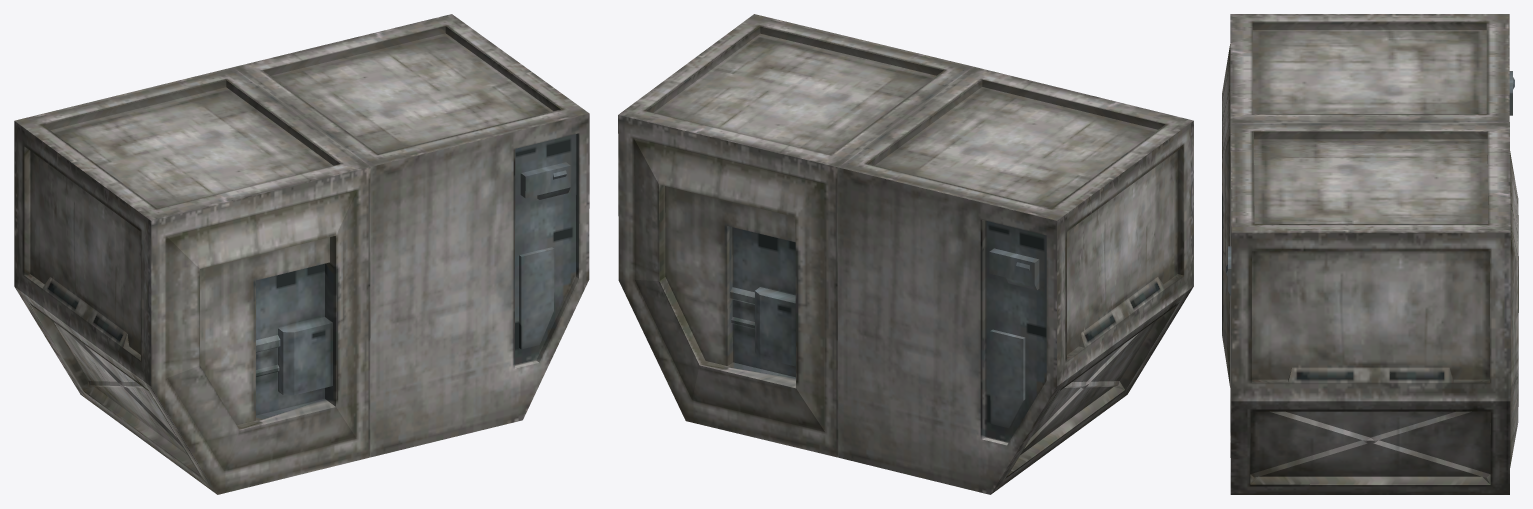
Rendered from cargo_freighter_crate_s01_l0.fbx.
3 views of the same model, side by side, from view 1: azimuth 30°, elevation 25°; view 2: azimuth 150°, elevation 25°; view 3: azimuth 270°, elevation 25° (orthographic).
Parts seen in each view (by area): view 1: mesh_node; view 2: mesh_node; view 3: mesh_node.
Boxes of the visible parts, <box> form: mesh_node: <box>14,14,589,494</box>; mesh_node: <box>618,14,1193,494</box>; mesh_node: <box>1222,14,1518,494</box>.
Size of the model in its own units: 23.33 by 14.78 by 13.4.
